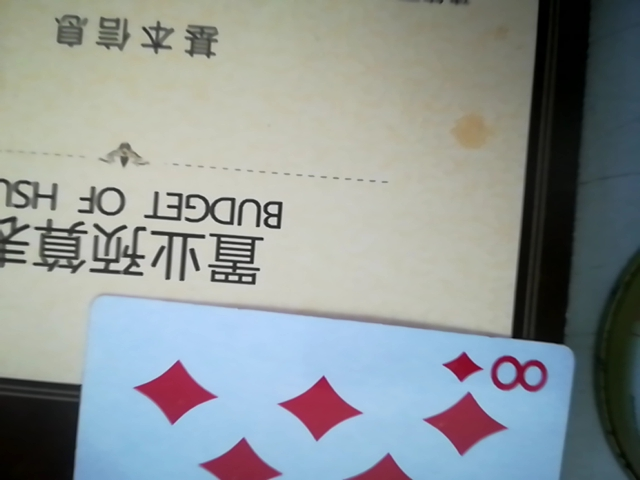fk 8: (58, 289, 591, 480)
